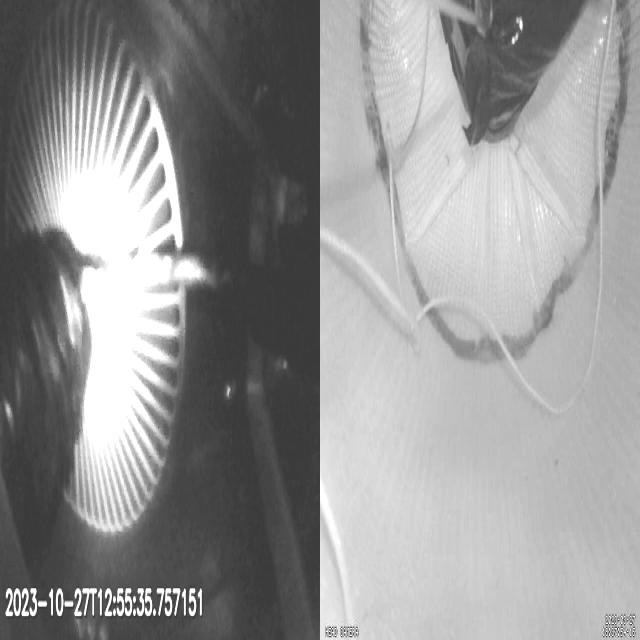red-circle: (359, 0, 631, 367)
